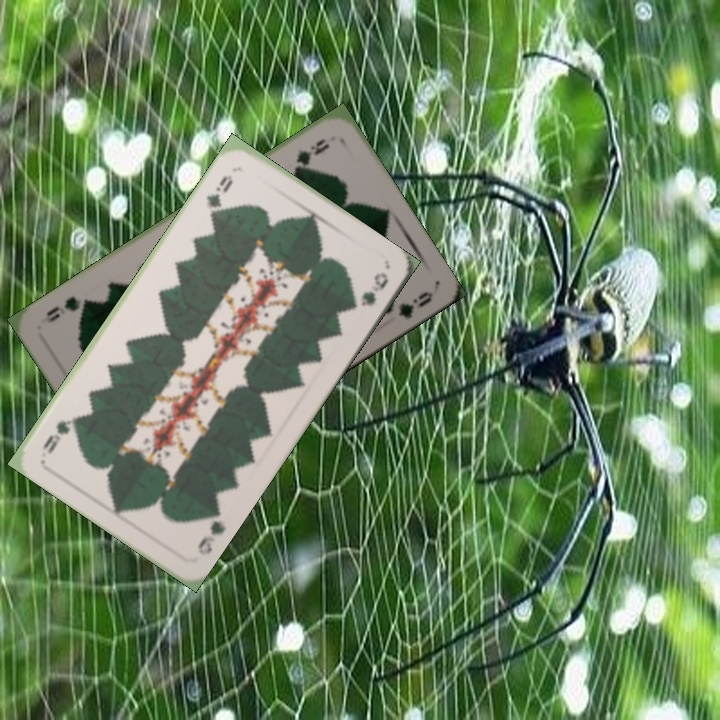G9: (193, 505, 229, 558), (287, 134, 332, 176), (202, 170, 236, 221)
